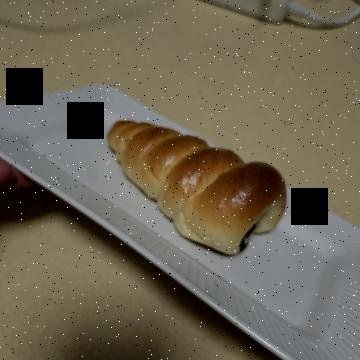cream horn: (99, 73, 284, 281)
